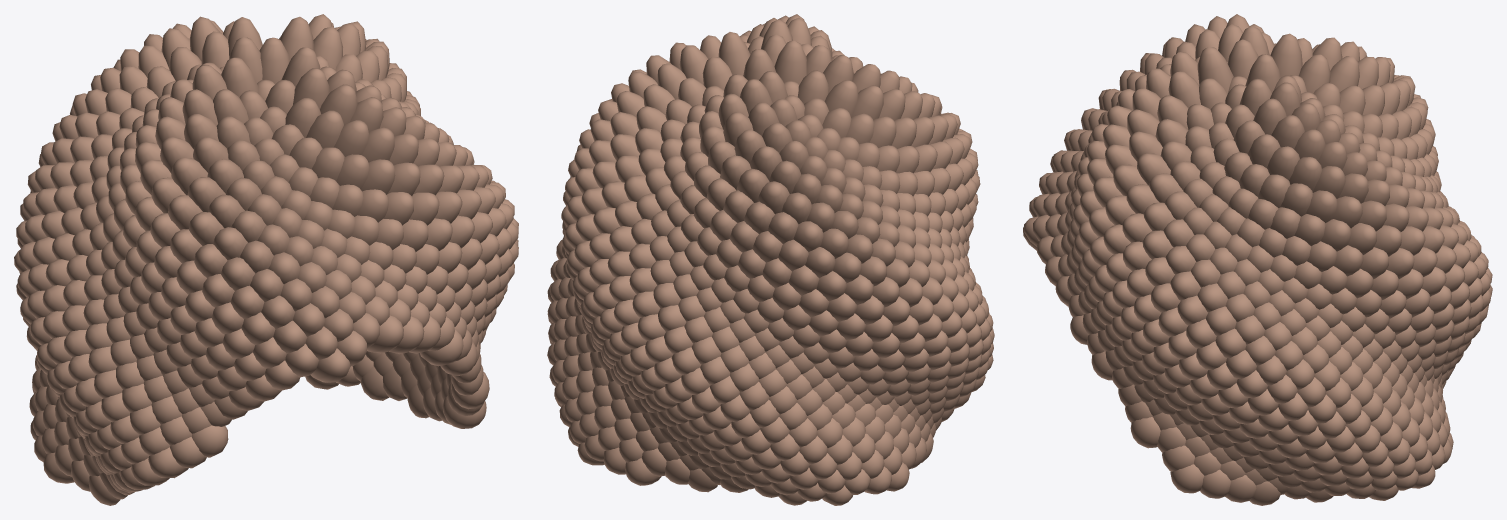
Rendered from swirl.glb.
The picture shows the model from 3 angles, left to right: view 1: azimuth 30°, elevation 25°; view 2: azimuth 150°, elevation 25°; view 3: azimuth 270°, elevation 25°; orthographic projection. The views are drawn at different scales.
Visible parts, largest first — view 1: Hair_0000, Hair_0010, Hair_0021, Hair_0055, Hair_0076, Hair_0042, Hair_0006, Hair_0019, Hair_0478, Hair_0097, Hair_0671, Hair_0034 (+122 smaller); view 2: Hair_0002, Hair_0006, Hair_0036, Hair_0057, Hair_0015, Hair_0027, Hair_0014, Hair_0023, Hair_0156, Hair_0135, Hair_0004, Hair_0211 (+106 smaller); view 3: Hair_0008, Hair_0004, Hair_0017, Hair_0000, Hair_0029, Hair_0038, Hair_0006, Hair_0061, Hair_0040, Hair_0095, Hair_0116, Hair_0150 (+107 smaller).
Boxes of the visible parts, x1=… form: Hair_0000: x1=259, y1=37, x2=289, y2=84; Hair_0010: x1=221, y1=57, x2=258, y2=97; Hair_0021: x1=293, y1=68, x2=329, y2=109; Hair_0055: x1=306, y1=110, x2=343, y2=148; Hair_0076: x1=333, y1=120, x2=369, y2=156; Hair_0042: x1=320, y1=84, x2=357, y2=124; Hair_0006: x1=280, y1=16, x2=314, y2=60; Hair_0019: x1=313, y1=26, x2=342, y2=69; Hair_0478: x1=310, y1=348, x2=350, y2=382; Hair_0097: x1=362, y1=127, x2=394, y2=162; Hair_0671: x1=191, y1=425, x2=228, y2=457; Hair_0034: x1=285, y1=98, x2=321, y2=137; Hair_0002: x1=774, y1=40, x2=806, y2=84; Hair_0006: x1=718, y1=32, x2=750, y2=75; Hair_0036: x1=824, y1=80, x2=858, y2=117; Hair_0057: x1=852, y1=85, x2=883, y2=119; Hair_0015: x1=797, y1=70, x2=828, y2=103; Hair_0027: x1=679, y1=45, x2=708, y2=84; Hair_0014: x1=702, y1=57, x2=732, y2=89; Hair_0023: x1=823, y1=55, x2=853, y2=93; Hair_0156: x1=757, y1=181, x2=789, y2=213; Hair_0135: x1=736, y1=168, x2=769, y2=202; Hair_0004: x1=743, y1=49, x2=776, y2=80; Hair_0211: x1=768, y1=212, x2=798, y2=243; Hair_0008: x1=1197, y1=47, x2=1233, y2=93; Hair_0004: x1=1270, y1=33, x2=1302, y2=77; Hair_0017: x1=1298, y1=54, x2=1330, y2=93; Hair_0000: x1=1227, y1=39, x2=1258, y2=79; Hair_0029: x1=1168, y1=71, x2=1200, y2=107; Hair_0038: x1=1330, y1=56, x2=1359, y2=91; Hair_0006: x1=1245, y1=54, x2=1280, y2=92; Hair_0061: x1=1271, y1=115, x2=1304, y2=148; Hair_0040: x1=1253, y1=98, x2=1286, y2=134; Hair_0095: x1=1267, y1=146, x2=1299, y2=180; Hair_0116: x1=1289, y1=157, x2=1321, y2=192; Hair_0150: x1=1280, y1=183, x2=1312, y2=216.
Size of the model in its own units: 2.17 by 2.04 by 2.14.
